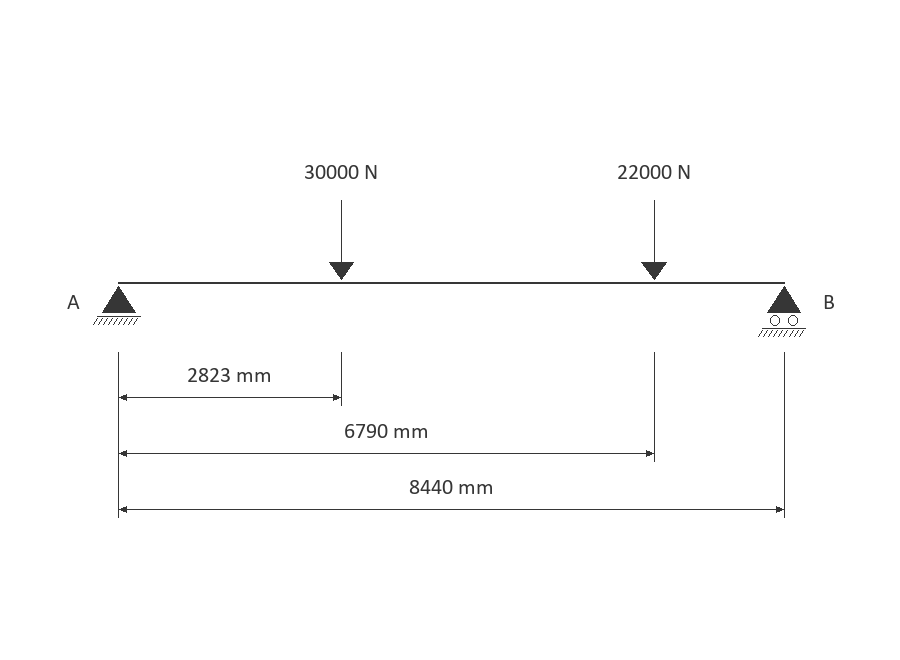pin_support: (93, 286, 141, 325)
point_load: (641, 200, 667, 280), (329, 200, 354, 280)
roller_support: (758, 286, 806, 337)
